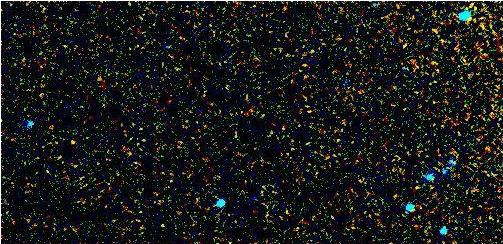star: (61, 126, 91, 156)
